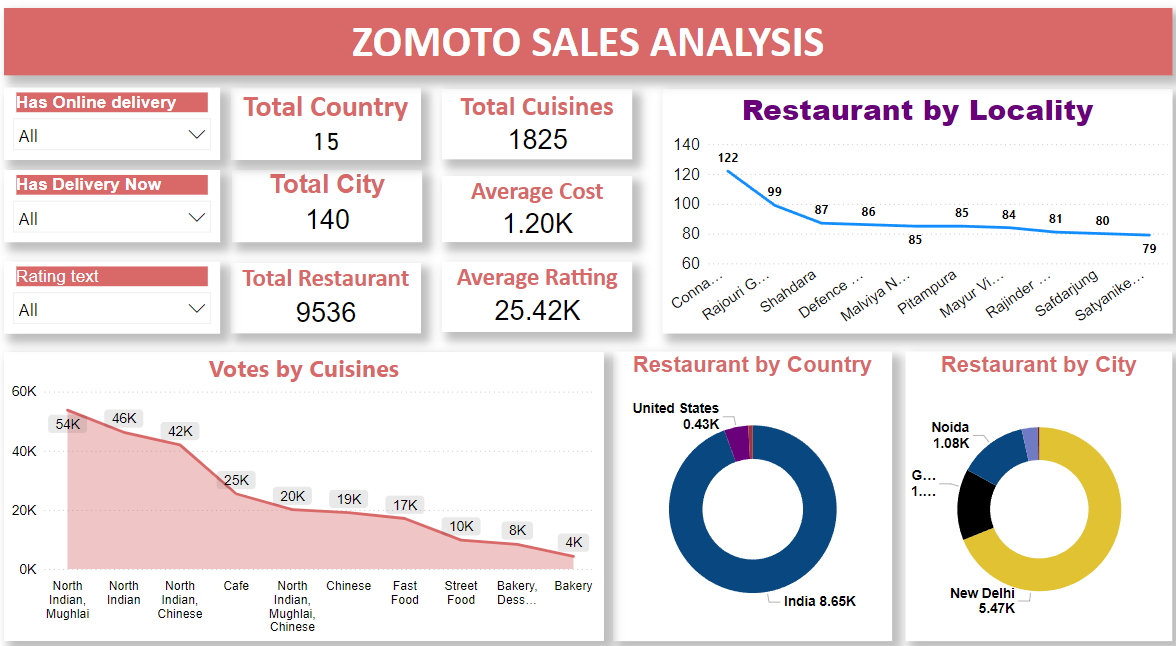

What the dashboard file says about the page in this screenshot:
{"tool":"powerbi","page":{"name":"Page 1","canvas":[1280,720],"ordinal":0},"visuals":[{"type":"card","title":"Total Cuisines","fields":{"Values":["Count(Clean Zamoto Data.Cuisines)"]},"box":[479.3,106.9,205.6,76.1],"z":0},{"type":"card","title":"Total City","fields":{"Values":["Count(Clean Zamoto Data.City)"]},"box":[252.6,194.3,205.6,77.7],"z":1000},{"type":"card","title":"Average Ratting","fields":{"Values":["Sum(Clean Zamoto Data.Aggregate rating)"]},"box":[479.3,293.1,205.6,76.1],"z":2000},{"type":"card","title":"Total Country","fields":{"Values":["Count(Clean Zamoto Data.Country)"]},"box":[251,105.2,205.6,77.7],"z":3000},{"type":"card","title":"Total Restaurant","fields":{"Values":["CountNonNull(Clean Zamoto Data.Restaurant Name)"]},"box":[251,294.7,205.6,76.1],"z":4000},{"type":"lineChart","title":"Restaurant by Locality","fields":{"Category":["Clean Zamoto Data.Locality"],"Y":["CountNonNull(Clean Zamoto Data.Restaurant Name)"]},"box":[717.3,106.9,550.5,263.9],"z":5000},{"type":"donutChart","title":"Restaurant by Country","fields":{"Category":["Clean Zamoto Data.Country"],"Y":["CountNonNull(Clean Zamoto Data.Restaurant Name)"]},"box":[663.9,390.2,301.2,312.5],"z":6000},{"type":"donutChart","title":"Restaurant by City","fields":{"Category":["Clean Zamoto Data.City"],"Y":["CountNonNull(Clean Zamoto Data.Restaurant Name)"]},"box":[979.6,390.2,288.2,312.5],"z":7000},{"type":"textbox","box":[6.5,19.4,1261.4,72.9],"z":8000},{"type":"slicer","fields":{"Values":["Clean Zamoto Data.Has Online delivery"]},"box":[6.5,105.2,233.2,77.7],"z":9000},{"type":"slicer","fields":{"Values":["Clean Zamoto Data.Is delivering now"]},"box":[6.5,194.3,233.2,77.7],"z":10000},{"type":"areaChart","title":"Votes by Cuisines","fields":{"Category":["Clean Zamoto Data.Cuisines"],"Y":["Sum(Clean Zamoto Data.Votes)"]},"box":[6.5,390.2,647.7,312.5],"z":11000},{"type":"slicer","fields":{"Values":["Clean Zamoto Data.Rating text"]},"box":[6.5,293.1,233.2,77.7],"z":11001},{"type":"card","title":"Average Cost","fields":{"Values":["Avg(Clean Zamoto Data.Average Cost for two)"]},"box":[479.3,200.8,205.6,71.2],"z":11002}]}

Visuals, with their boxes in screenshot pixels (x1, y1, x2, y2), scaled from the page's 1280x720 canvas onto the 1176x646 screenshot:
"Total Cuisines" card: detection(440, 96, 629, 164)
"Total City" card: detection(232, 174, 421, 244)
"Average Ratting" card: detection(440, 263, 629, 331)
"Total Country" card: detection(231, 94, 420, 164)
"Total Restaurant" card: detection(231, 264, 420, 333)
"Restaurant by Locality" lineChart: detection(659, 96, 1165, 333)
"Restaurant by Country" donutChart: detection(610, 350, 887, 630)
"Restaurant by City" donutChart: detection(900, 350, 1165, 630)
textbox: detection(6, 17, 1165, 83)
slicer - Clean Zamoto Data.Has Online delivery: detection(6, 94, 220, 164)
slicer - Clean Zamoto Data.Is delivering now: detection(6, 174, 220, 244)
"Votes by Cuisines" areaChart: detection(6, 350, 601, 630)
slicer - Clean Zamoto Data.Rating text: detection(6, 263, 220, 333)
"Average Cost" card: detection(440, 180, 629, 244)
